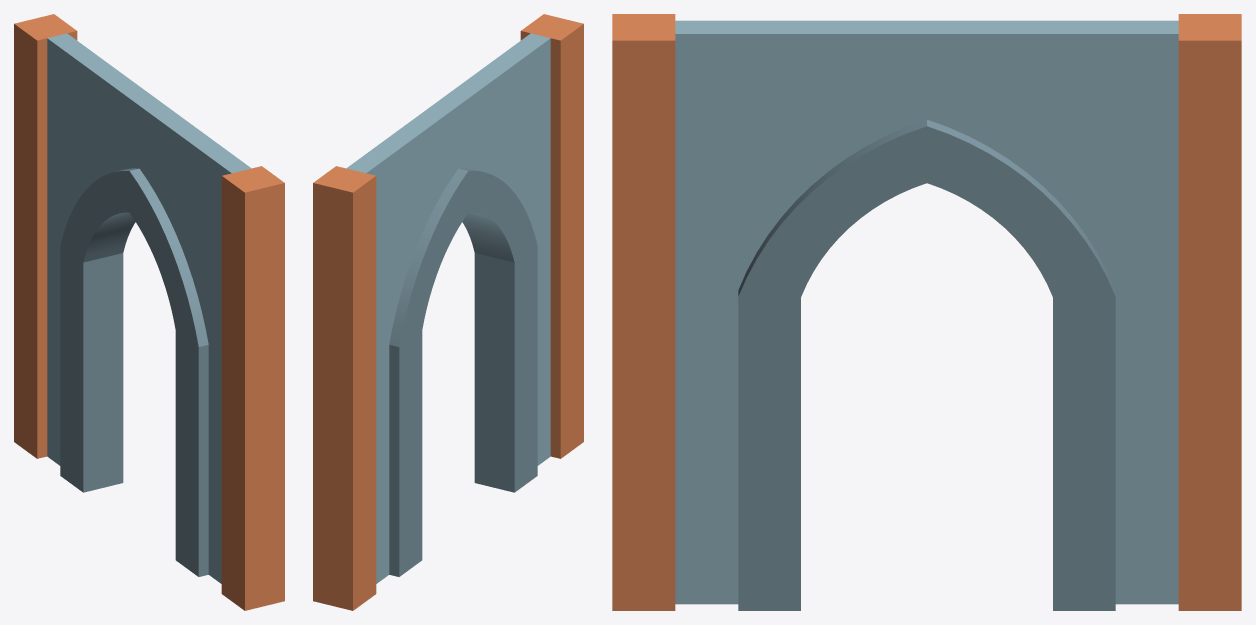
Rendered from wallDoorwayRound.obj.
The picture shows the model from 3 angles, left to right: view 1: azimuth 30°, elevation 25°; view 2: azimuth 150°, elevation 25°; view 3: azimuth 270°, elevation 25°; orthographic projection. The views are drawn at different scales.
Parts seen in each view (by area): view 1: wallDoorwayRound; view 2: wallDoorwayRound; view 3: wallDoorwayRound.
Part boxes in pixels (bbox=[...]): wallDoorwayRound: bbox=[14, 14, 284, 610]; wallDoorwayRound: bbox=[313, 14, 583, 610]; wallDoorwayRound: bbox=[612, 14, 1241, 610].
Bounding box in the file's own units: 0.1 × 1 × 1.
